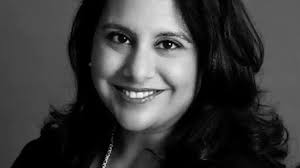indian_female: (88, 1, 217, 140)
